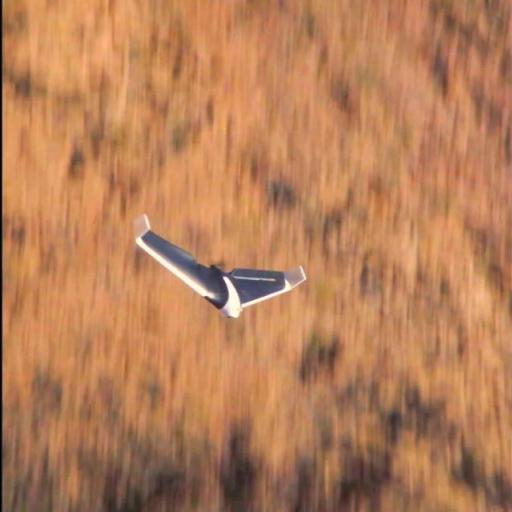uav: (120, 210, 310, 328)
